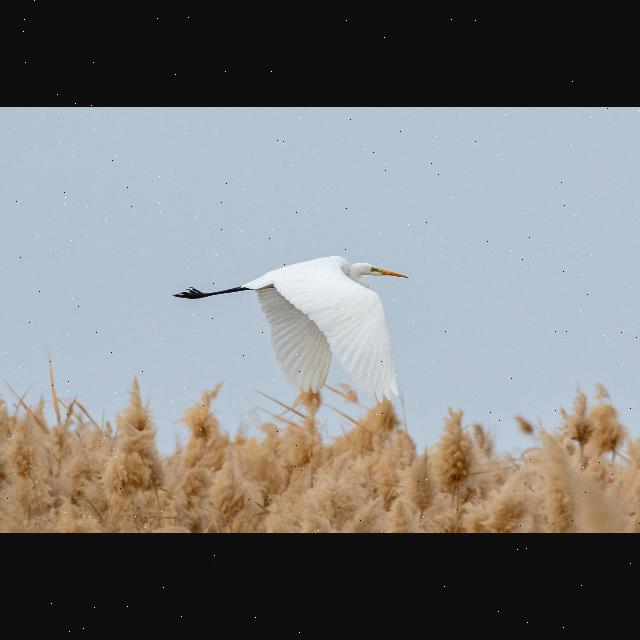egret: (169, 252, 421, 406)
